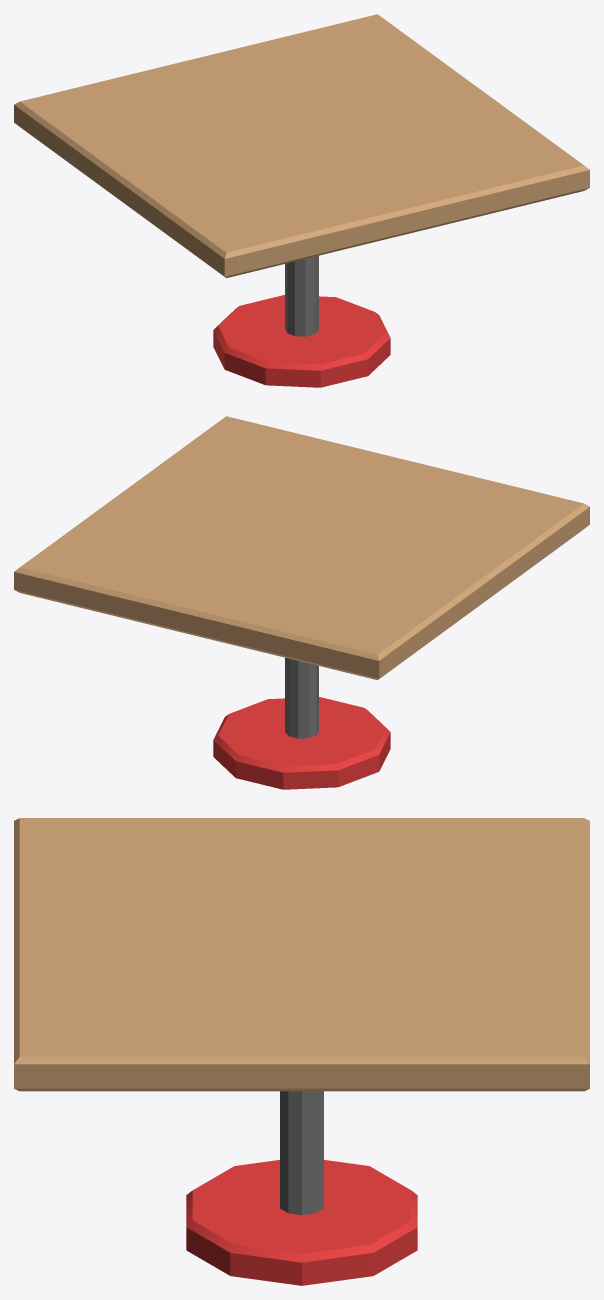
The model's file is Obj_Mesa.fbx.
The picture shows the model from 3 angles, top to bottom: view 1: azimuth 30°, elevation 25°; view 2: azimuth 150°, elevation 25°; view 3: azimuth 270°, elevation 25°; orthographic projection. The views are drawn at different scales.
Visible parts, largest first — view 1: Mesa; view 2: Mesa; view 3: Mesa.
Part boxes in pixels (<box>): Mesa: <box>14,14,589,387</box>; Mesa: <box>14,416,589,789</box>; Mesa: <box>14,818,589,1285</box>.
Size of the model in its own units: 3.61 by 2.05 by 3.61.
